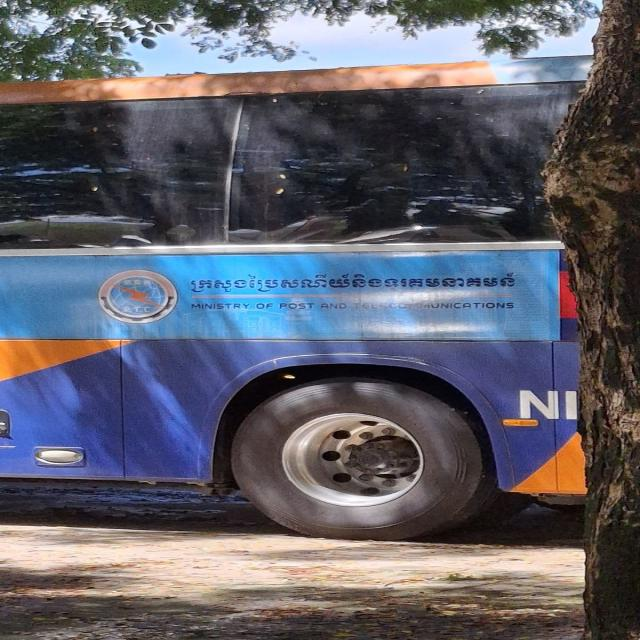Yolov11kh: (176, 263, 531, 300)
